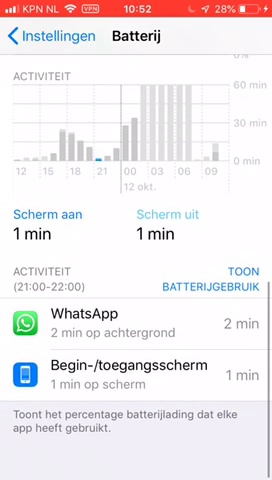activity: (10, 264, 93, 295)
app: (11, 304, 263, 346), (10, 354, 262, 396)
